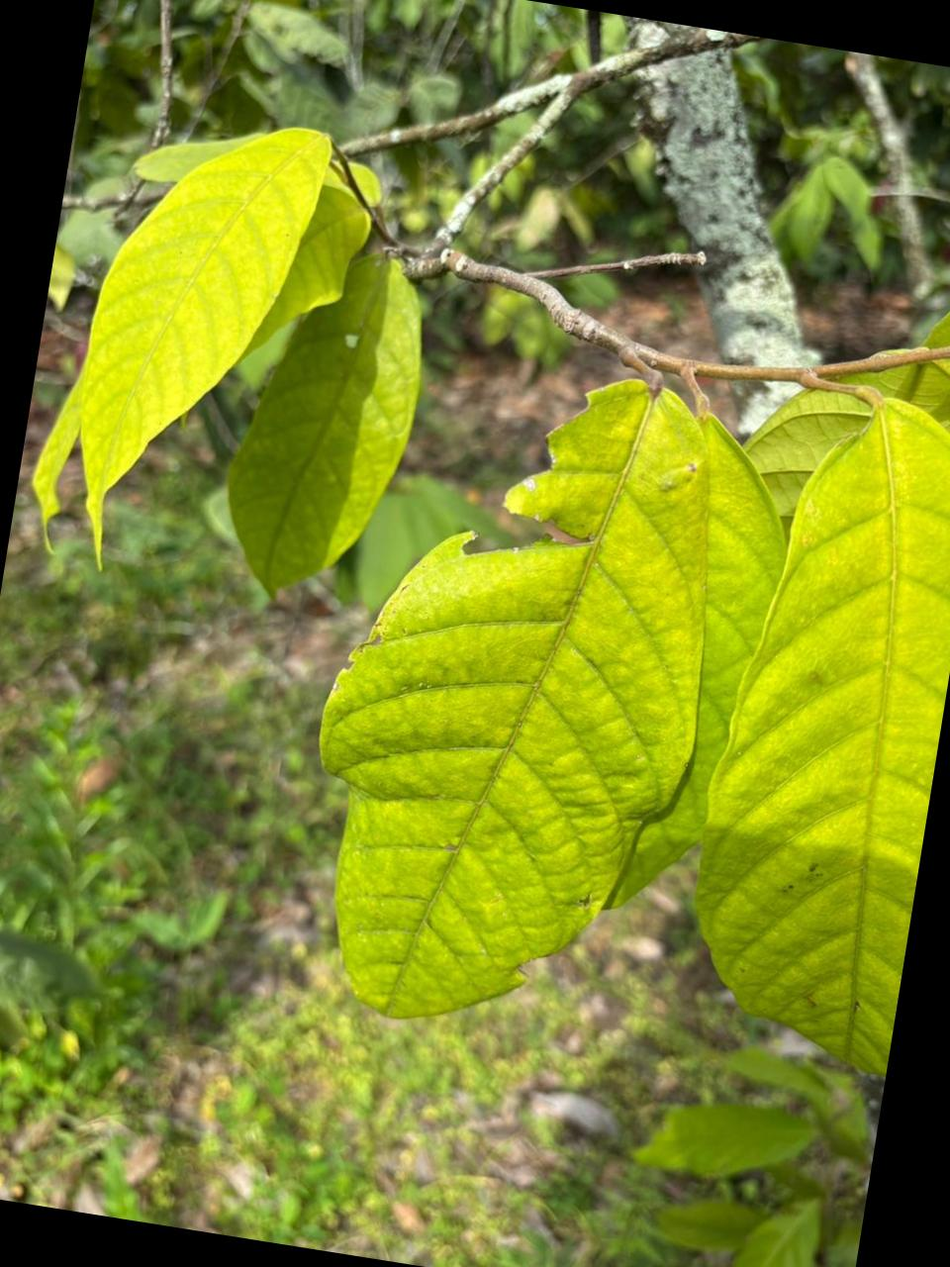Nitrogeno: (321, 381, 719, 1017), (698, 400, 950, 1073), (79, 129, 331, 556)
